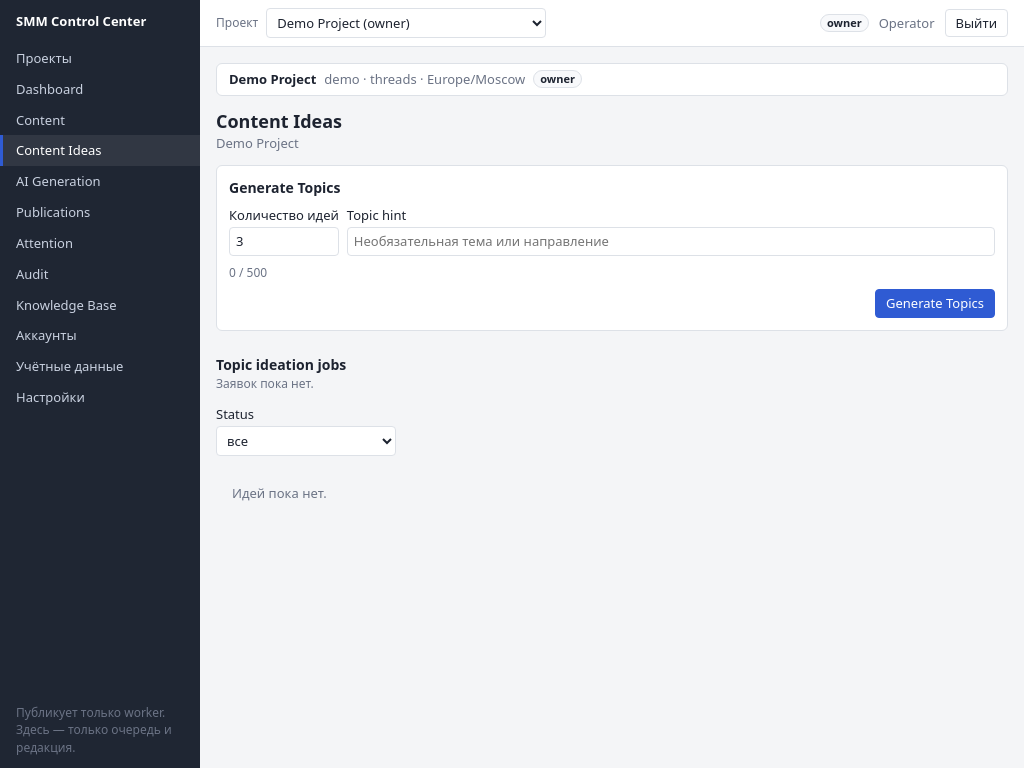
Test: content ideas page › resets the topic form and uncertain outcome when switching projects
In the field labelled "Topic hint": x=671, y=241 [347,227,995,256], type "Private topic for project A"
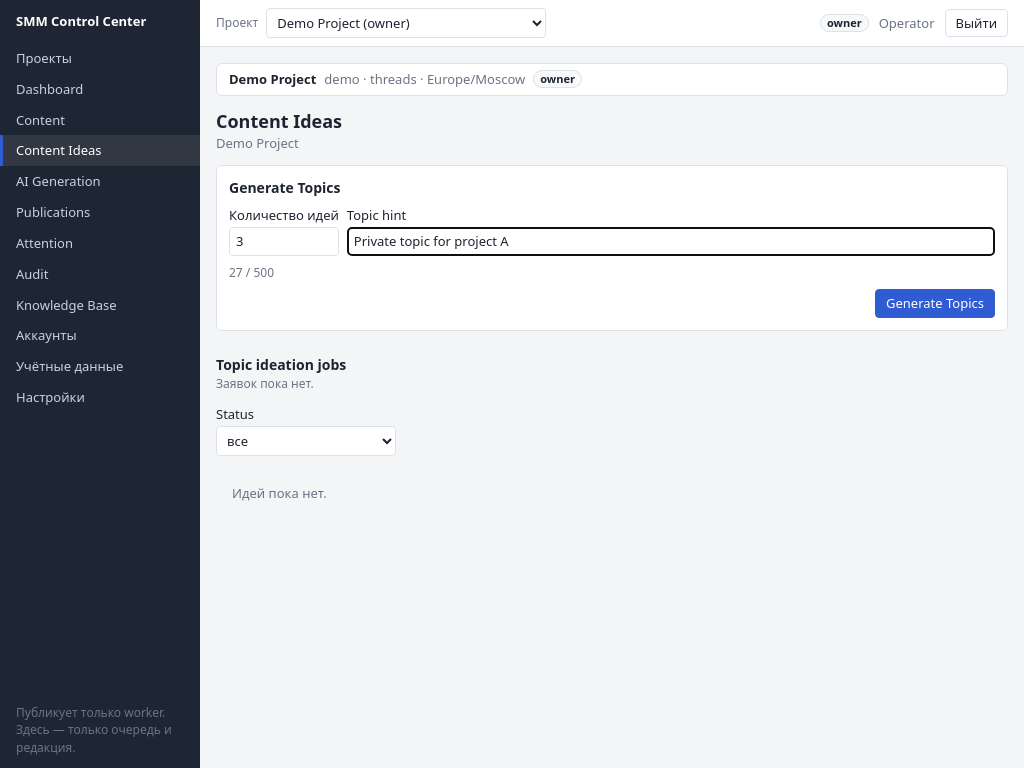
Click the button "Generate Topics": x=935, y=304 [875,289,995,318]
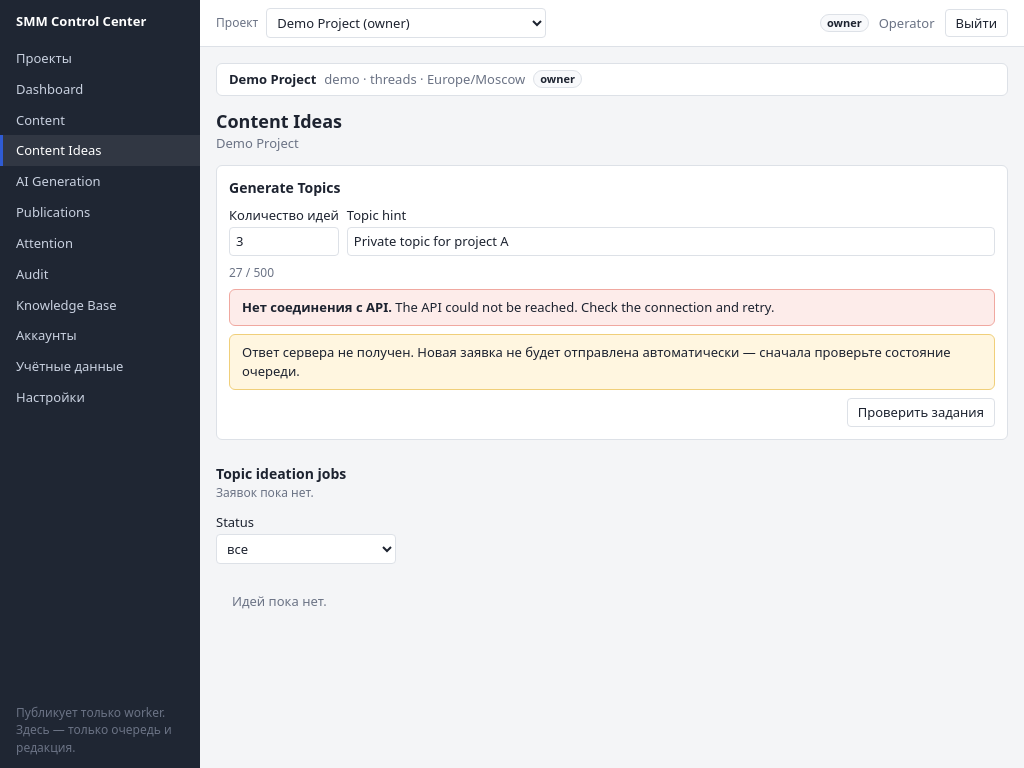
Expected: the button "Проверить задания" is shown, [847,398,995,426]
Select "Beta Project (owner)" in the dropdown named "Project switcher": x=406, y=23 [266,8,546,38]
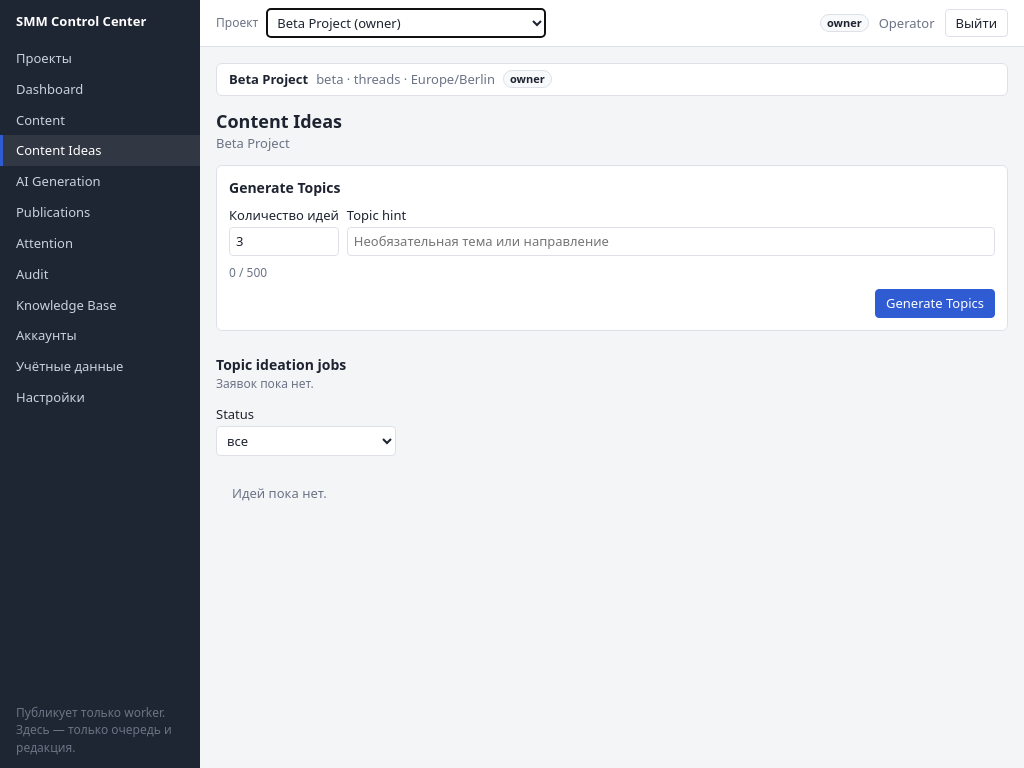
Expected: the field labelled "Topic hint" is empty, [347,227,995,256]
Expected: the button "Generate Topics" is enabled, [875,289,995,318]
Expected: the button "Проверить задания" is gone
